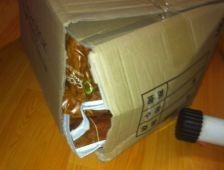damaged package: (60, 24, 114, 162)
